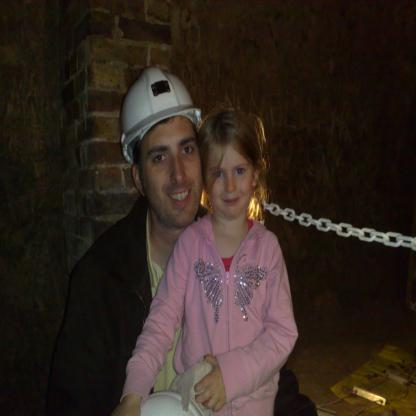Helmet: (117, 66, 207, 166)
